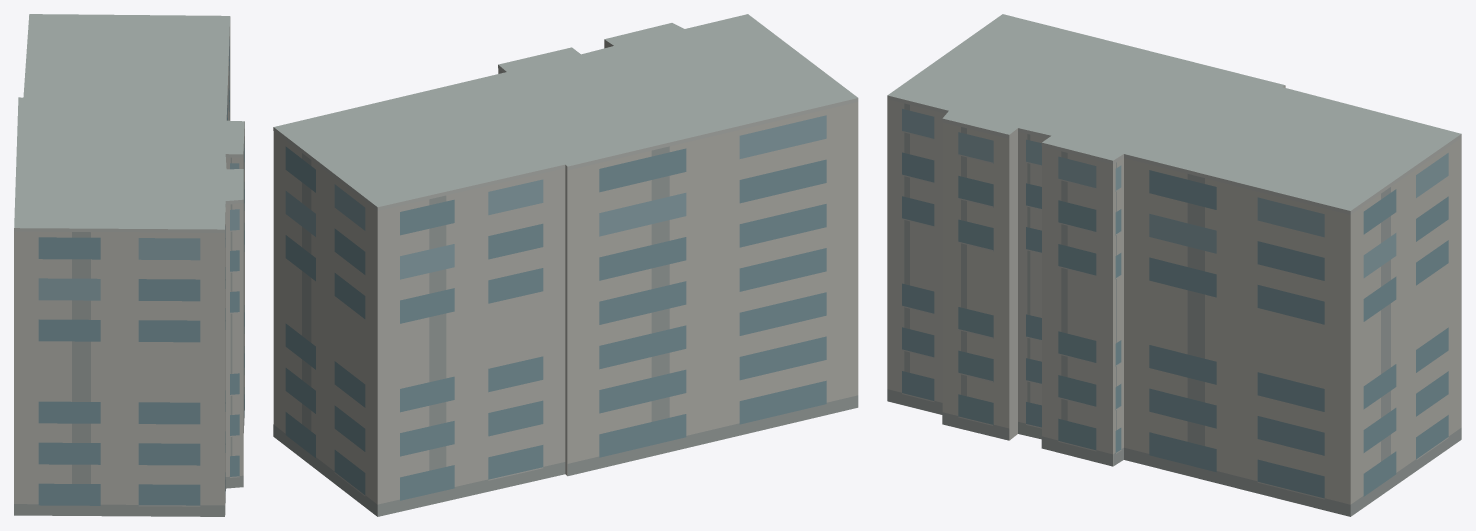
Rendered from survey-upis-32680101.glb.
3 renders of one model, left to right at view 1: azimuth 30°, elevation 25°; view 2: azimuth 150°, elevation 25°; view 3: azimuth 270°, elevation 25°, orthographic. The views are drawn at different scales.
Visible parts, largest first — view 1: survey-upis-32680101.tmp; view 2: survey-upis-32680101.tmp; view 3: survey-upis-32680101.tmp.
Part boxes in pixels (x1,y1,x2,y2): survey-upis-32680101.tmp: (14,14,244,516); survey-upis-32680101.tmp: (273,14,858,516); survey-upis-32680101.tmp: (887,14,1461,516).
Bounding box in the file's own units: 27.37 × 19.8 × 33.7.
